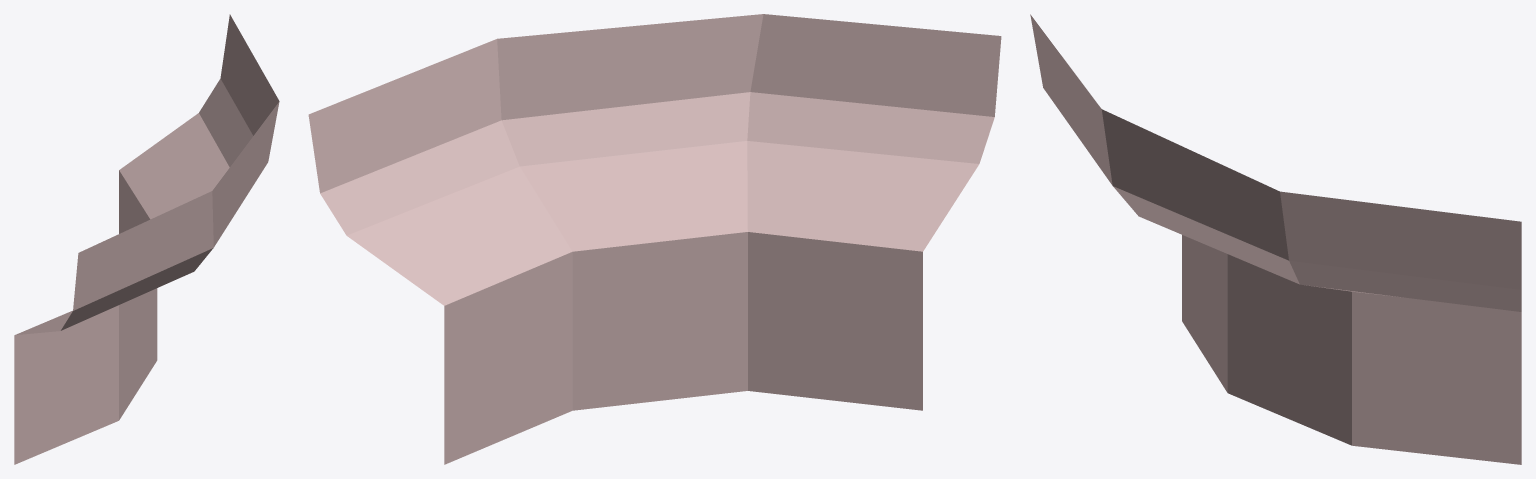
The model's file is castle_tower_medium_endpiece_01.fbx.
3 views of the same model, side by side, from view 1: azimuth 30°, elevation 25°; view 2: azimuth 150°, elevation 25°; view 3: azimuth 270°, elevation 25° (orthographic). The views are drawn at different scales.
Parts seen in each view (by area): view 1: castle_tower_medium_endpiece_01; view 2: castle_tower_medium_endpiece_01; view 3: castle_tower_medium_endpiece_01.
Part boxes in pixels (<box>): castle_tower_medium_endpiece_01: <box>14,14,279,464</box>; castle_tower_medium_endpiece_01: <box>308,14,1001,464</box>; castle_tower_medium_endpiece_01: <box>1030,14,1521,464</box>.
Bounding box in the file's own units: 5.81 × 4.01 × 5.81.
